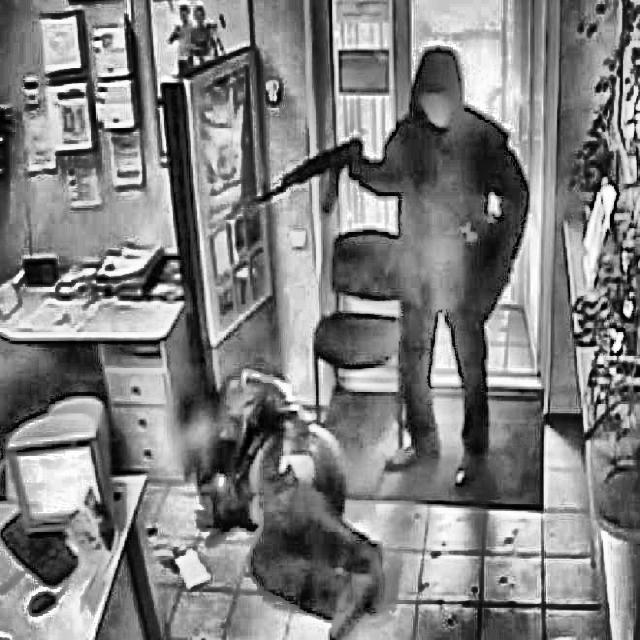robbery: (173, 45, 537, 639)
